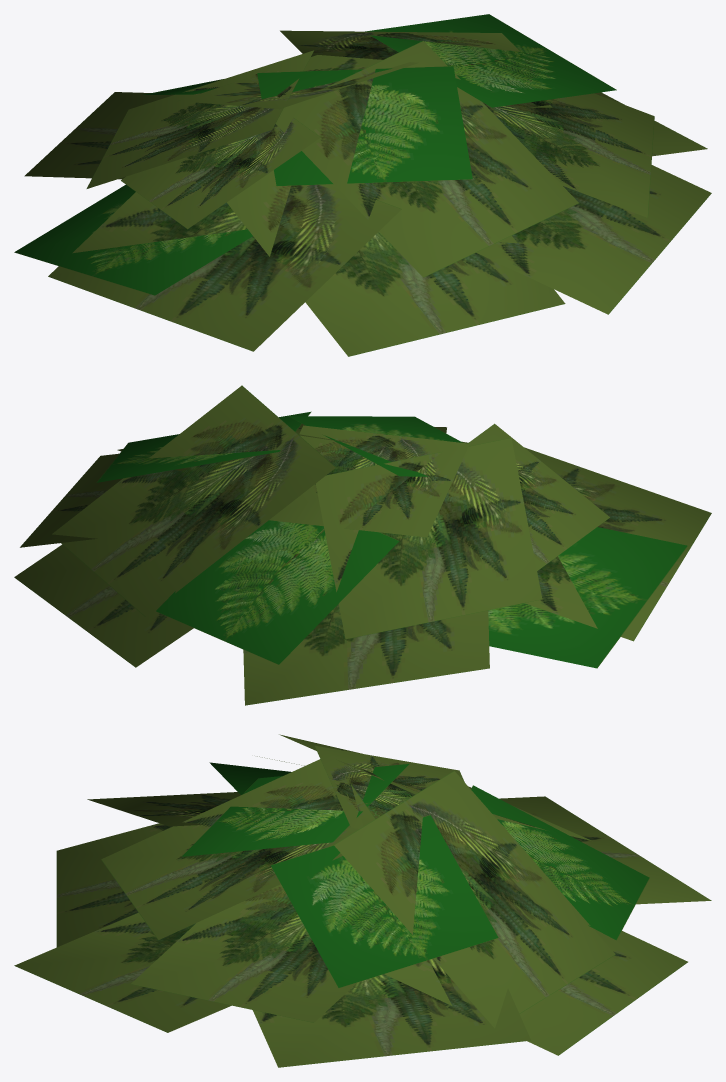
File: ptch_endr_frst_cluster_a1_l2.fbx
3 views of the same model, one above another, from view 1: azimuth 30°, elevation 25°; view 2: azimuth 150°, elevation 25°; view 3: azimuth 270°, elevation 25° (orthographic). The views are drawn at different scales.
Parts seen in each view (by area): view 1: mesh_node; view 2: mesh_node; view 3: mesh_node.
Part boxes in pixels (box(x1,y1,x2,y2)): mesh_node: box(14, 14, 711, 356); mesh_node: box(14, 385, 711, 705); mesh_node: box(14, 734, 711, 1067).
Bounding box in the file's own units: 6.16 × 1.48 × 6.16.
